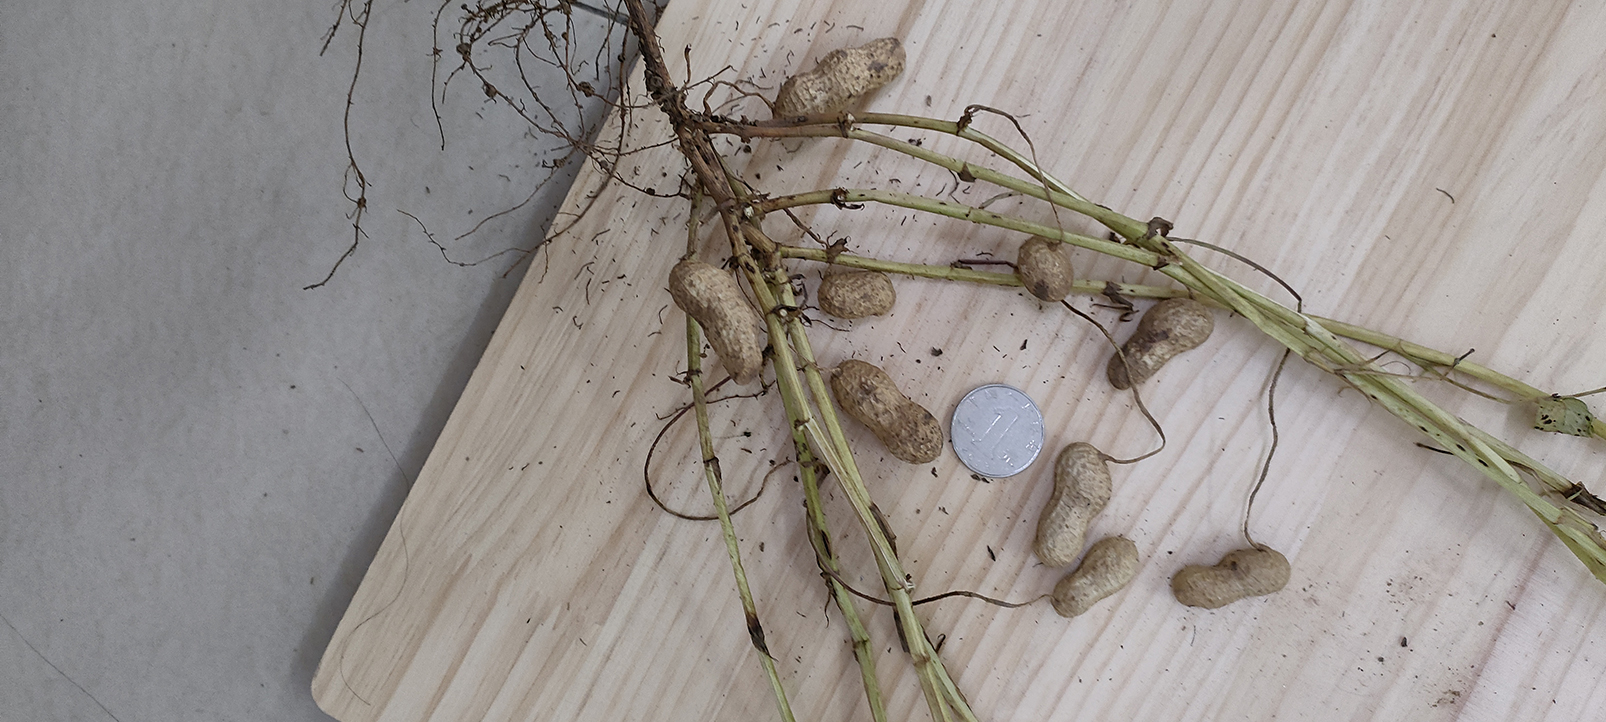h: (668, 259, 765, 384), (832, 358, 943, 464), (771, 35, 906, 120), (1033, 442, 1112, 568), (1108, 296, 1214, 389), (1049, 536, 1140, 620), (1172, 546, 1292, 609), (1015, 236, 1072, 302), (819, 269, 896, 318)
